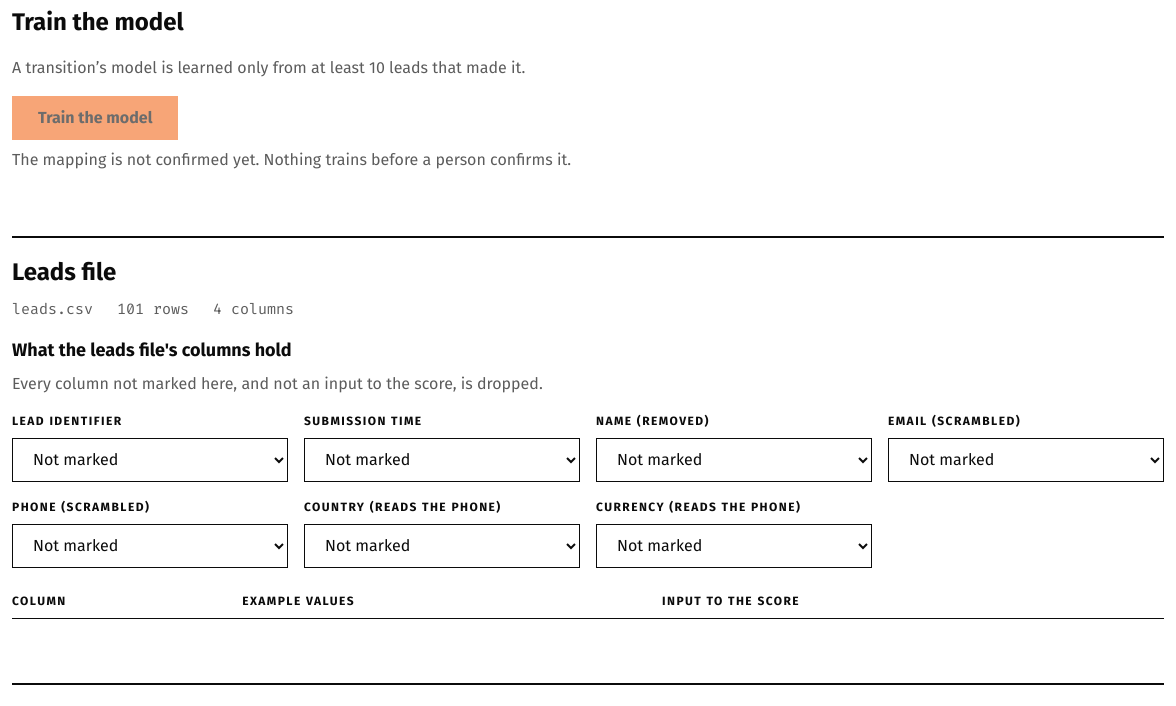
it: ReviewStep › says the draft was not saved, instead of showing reasons that may be out of date
Select "Lead ID" in the dropdown labelled "Lead identifier" at (150, 460), box [12, 438, 288, 482]
(page scrolled)
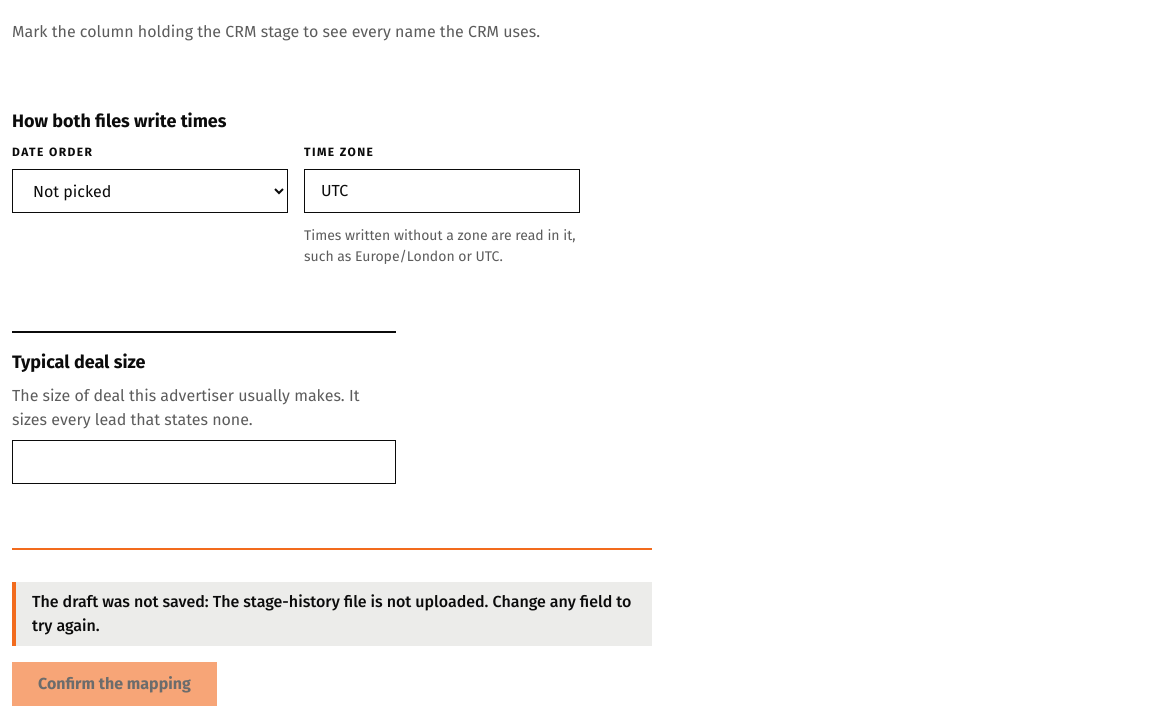
Expected: the button "Confirm the mapping" is disabled, [12, 662, 217, 705]
Result: the message shows "The draft was not saved: The stage-history file is not uploaded." at [12, 582, 652, 646]
